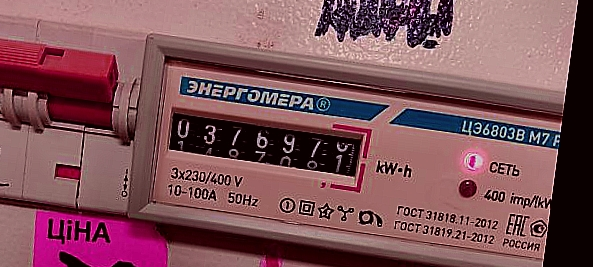0: (173, 115, 191, 139)
1: (331, 151, 343, 174)
3: (201, 122, 216, 144)
6: (252, 125, 270, 149)
7: (226, 122, 243, 147), (306, 133, 323, 157)
9: (279, 130, 296, 154)
screen: (153, 96, 374, 196)
